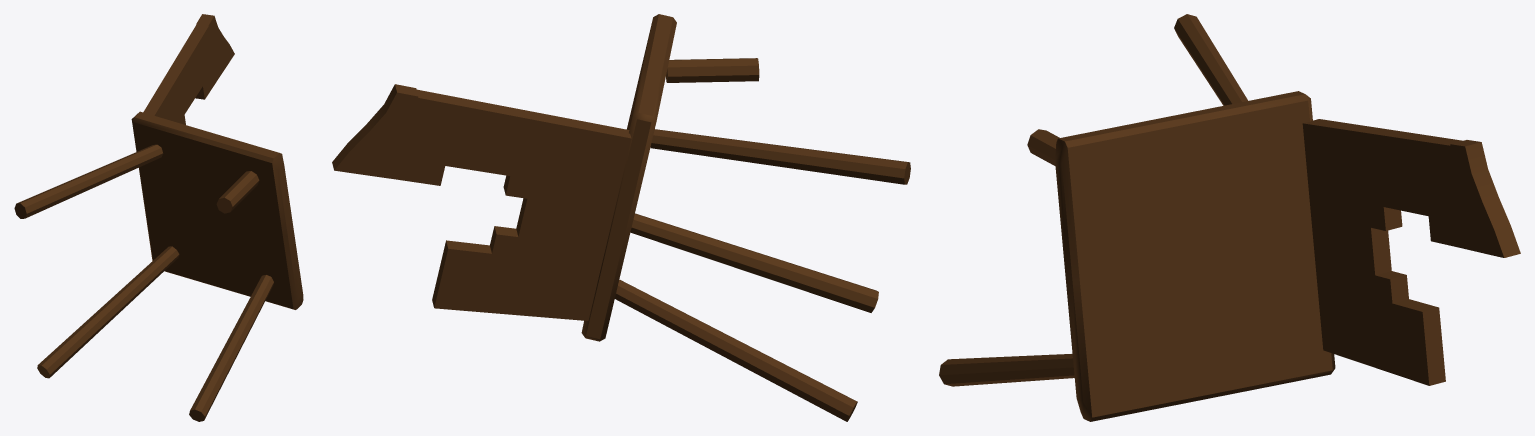
File: stuhl_brett_kaputt.glb
The picture shows the model from 3 angles, left to right: view 1: azimuth 30°, elevation 25°; view 2: azimuth 150°, elevation 25°; view 3: azimuth 270°, elevation 25°; orthographic projection. The views are drawn at different scales.
Parts seen in each view (by area): view 1: stuhl_brett_kaputt; view 2: stuhl_brett_kaputt; view 3: stuhl_brett_kaputt.
Boxes of the visible parts, left/top/right/bottom form: stuhl_brett_kaputt: left=14, top=14, right=303, bottom=421; stuhl_brett_kaputt: left=332, top=14, right=910, bottom=421; stuhl_brett_kaputt: left=939, top=14, right=1520, bottom=421.
Size of the model in its own units: 0.8274 by 0.6044 by 0.842.
